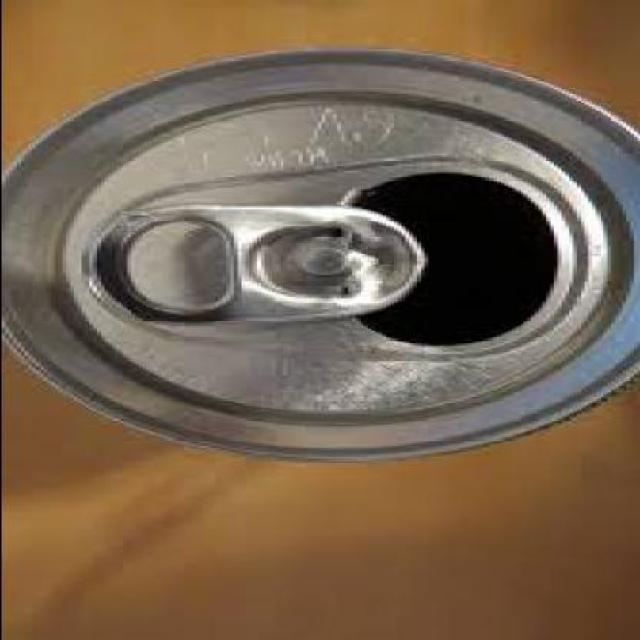METAL: (0, 45, 637, 463), (75, 203, 423, 326)
